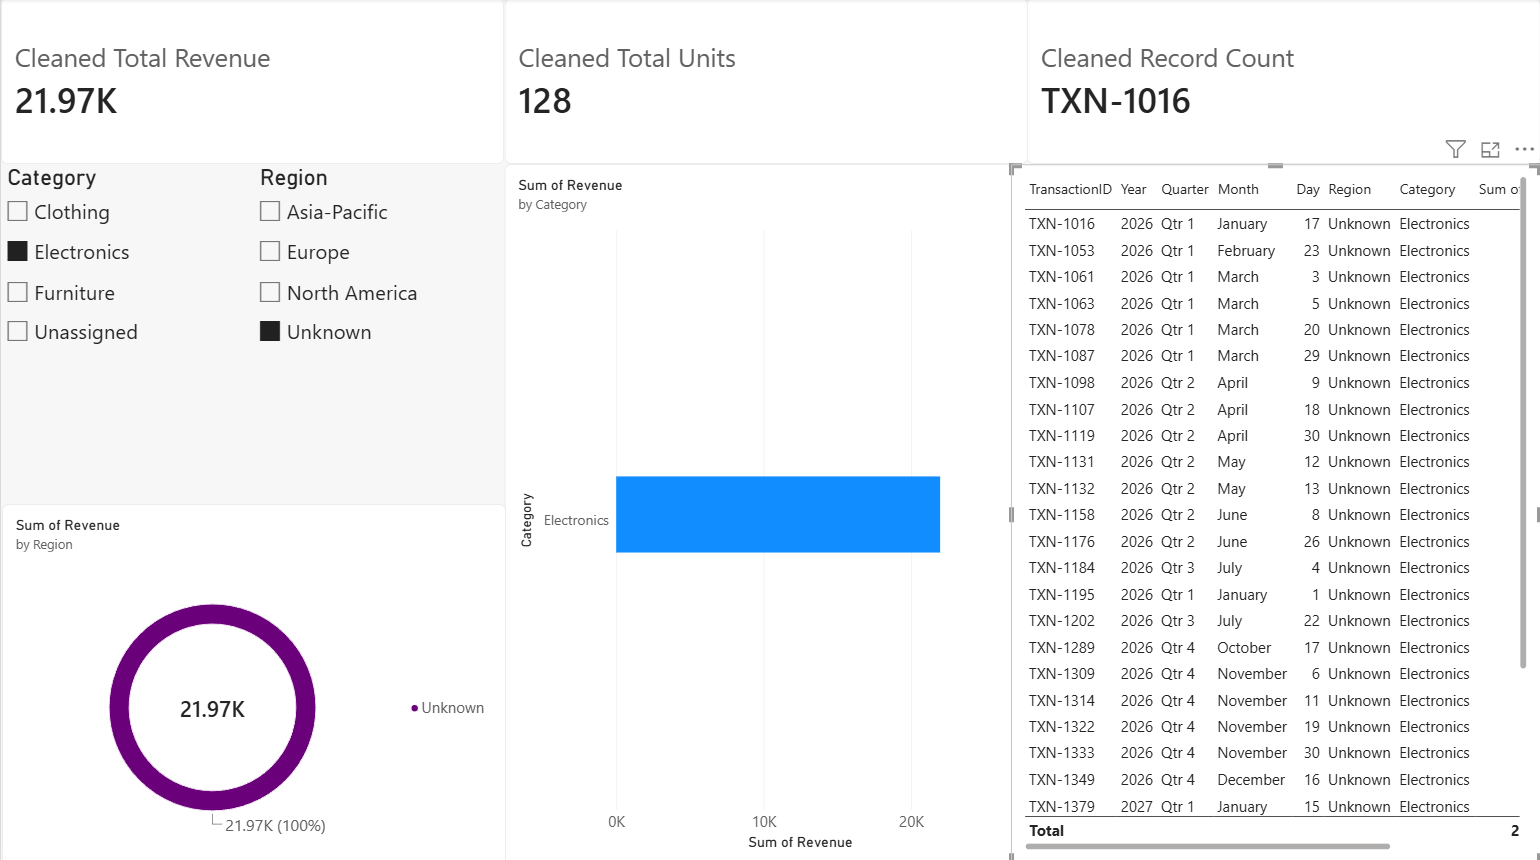

The dashboard page shown, as its layout file describes it:
{"tool":"powerbi","page":{"name":"Page 1","canvas":[1920,1080],"ordinal":0},"visuals":[{"type":"cardVisual","fields":{"Data":["Sum(cleaned_sales_report.Revenue)"]},"box":[0,0,627.8,207.9],"z":0},{"type":"cardVisual","fields":{"Data":["Sum(cleaned_sales_report.UnitsSold)"]},"box":[627.8,0,652.5,207.9],"z":1},{"type":"cardVisual","fields":{"Data":["Min(cleaned_sales_report.TransactionID)"]},"box":[1280.3,0,640.1,207.9],"z":2},{"type":"barChart","fields":{"Category":["cleaned_sales_report.Category"],"Y":["Sum(cleaned_sales_report.Revenue)"]},"box":[627.8,207.9,631.9,872.7],"z":3},{"type":"donutChart","fields":{"Category":["cleaned_sales_report.Region"],"Y":["Sum(cleaned_sales_report.Revenue)"]},"box":[2.1,631.9,627.8,448.7],"z":4},{"type":"slicer","fields":{"Values":["cleaned_sales_report.Region"]},"box":[314.9,207.9,312.9,424],"z":5},{"type":"slicer","fields":{"Values":["cleaned_sales_report.Category"]},"box":[0,207.9,314.9,424],"z":6},{"type":"tableEx","fields":{"Values":["cleaned_sales_report.TransactionID","cleaned_sales_report.Date.Variation.Date Hierarchy.Year","cleaned_sales_report.Date.Variation.Date Hierarchy.Quarter","cleaned_sales_report.Date.Variation.Date Hierarchy.Month","cleaned_sales_report.Date.Variation.Date Hierarchy.Day","cleaned_sales_report.Region","cleaned_sales_report.Category","Sum(cleaned_sales_report.Revenue)","Sum(cleaned_sales_report.UnitPrice)"]},"box":[1259.7,207.9,660.7,872.7],"z":7}]}

Visuals, with their boxes in screenshot pixels (x1, y1, x2, y2), scaled from the page's 1920x1080 canvas onto the 1540x860 screenshot:
cardVisual - Sum(cleaned_sales_report.Revenue): 0:0:504:166
cardVisual - Sum(cleaned_sales_report.UnitsSold): 504:0:1027:166
cardVisual - Min(cleaned_sales_report.TransactionID): 1027:0:1539:166
barChart - cleaned_sales_report.Category x Sum(cleaned_sales_report.Revenue): 504:166:1010:859
donutChart - cleaned_sales_report.Region x Sum(cleaned_sales_report.Revenue): 2:503:505:859
slicer - cleaned_sales_report.Region: 253:166:504:503
slicer - cleaned_sales_report.Category: 0:166:253:503
tableEx - cleaned_sales_report.TransactionID x cleaned_sales_report.Date.Variation.Date Hierarchy.Year: 1010:166:1539:859
